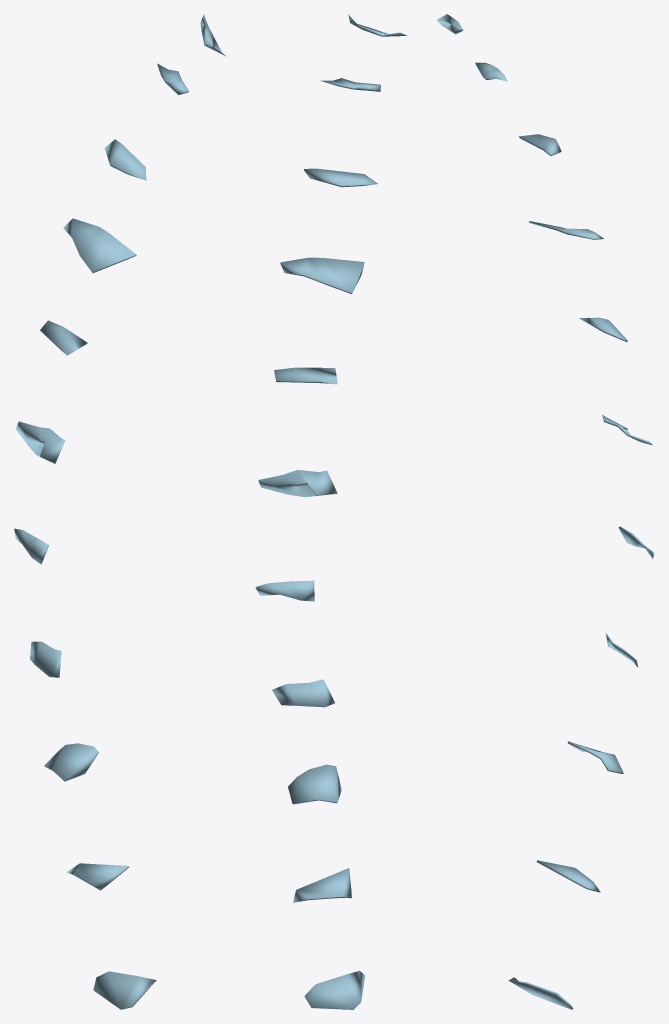
File: articulacoes-costotransverse-ligament-l.glb
3 renders of one model, left to right at view 1: azimuth 90°, elevation 25°; view 2: azimuth 150°, elevation 25°; view 3: azimuth 270°, elevation 25°, orthographic. The views are drawn at different scales.
Parts seen in each view (by area): view 1: Costotransverse ligament.l; view 2: Costotransverse ligament.l; view 3: Costotransverse ligament.l.
Boxes of the visible parts, left/top/right/bottom form: Costotransverse ligament.l: left=14, top=14, right=226, bottom=1009; Costotransverse ligament.l: left=255, top=14, right=406, bottom=1009; Costotransverse ligament.l: left=437, top=14, right=654, bottom=1009.
Size of the model in its own units: 0.02 by 0.2671 by 0.053.
